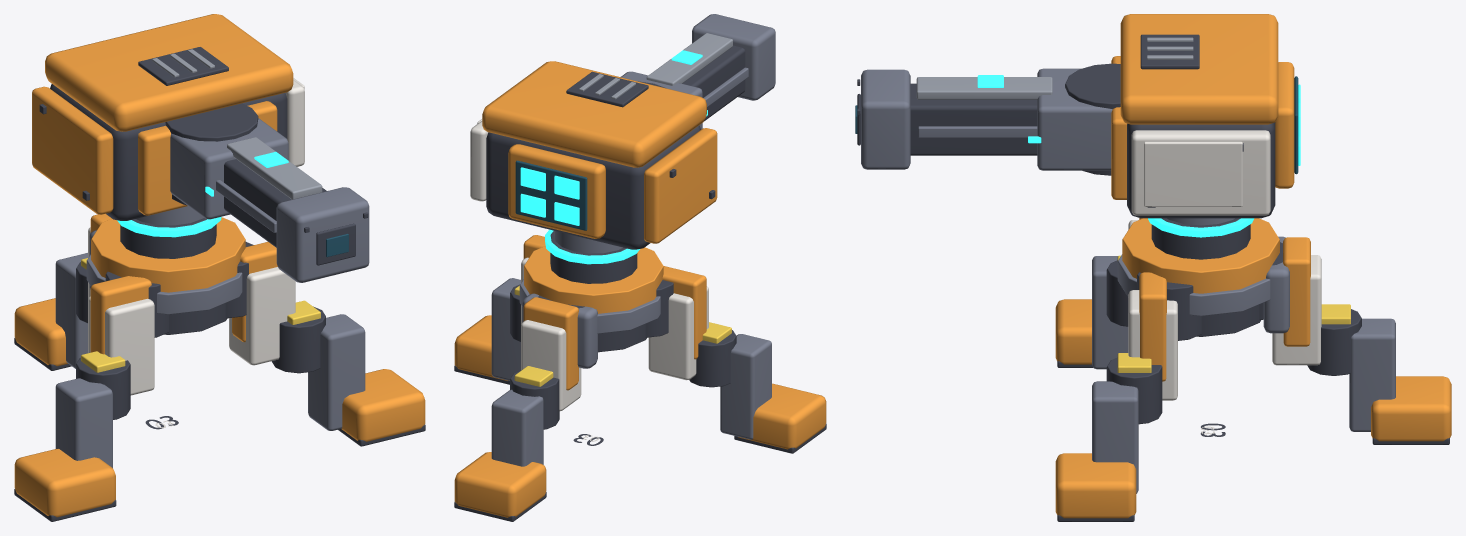
File: Turret_03.fbx
3 renders of one model, left to right at view 1: azimuth 30°, elevation 25°; view 2: azimuth 150°, elevation 25°; view 3: azimuth 270°, elevation 25°, orthographic. The views are drawn at different scales.
Visible parts, largest first — view 1: Head_Top_Orange, Head_Left_Armor, Gun_Muzzle_Housing, Chassis_Orange_Collar, Leg_2_Toe, Leg_3_Lower_Steel, Gun_Mount, Leg_3_Toe, Leg_2_Lower_Steel, Leg_3_Upper_Ivory, Leg_2_Upper_Ivory, Head_Main_Housing (+24 smaller); view 2: Head_Top_Orange, Head_Main_Housing, Head_Left_Armor, Chassis_Orange_Collar, Leg_1_Toe, Leg_2_Lower_Steel, Head_Front_Screen_Bezel, Leg_2_Toe, Leg_1_Lower_Steel, Gun_Muzzle_Housing, Leg_2_Upper_Ivory, Leg_1_Upper_Ivory (+27 smaller); view 3: Head_Top_Orange, Head_Right_White_Plate, Chassis_Orange_Collar, Gun_Main_Barrel, Gun_Mount, Head_Right_Armor, Gun_Muzzle_Housing, Leg_3_Toe, Leg_1_Toe, Leg_1_Lower_Steel, Leg_3_Lower_Steel, Gun_Upper_Rail (+21 smaller).
Part boxes in pixels (x1,y1,x2,y2): Head_Top_Orange: (45,14,293,131); Head_Left_Armor: (32,86,113,214); Gun_Muzzle_Housing: (276,187,369,282); Chassis_Orange_Collar: (91,217,245,292); Leg_2_Toe: (14,449,115,517); Leg_3_Lower_Steel: (308,314,365,430); Gun_Mount: (170,118,288,219); Leg_3_Toe: (341,369,425,441); Leg_2_Lower_Steel: (55,378,112,467); Leg_3_Upper_Ivory: (229,267,295,365); Leg_2_Upper_Ivory: (88,296,154,395); Head_Main_Housing: (50,84,287,220); Head_Top_Orange: (482,61,706,167); Head_Main_Housing: (486,125,700,249); Head_Left_Armor: (644,128,717,243); Chassis_Orange_Collar: (524,246,663,313); Leg_1_Toe: (454,452,546,517); Leg_2_Lower_Steel: (720,334,771,439); Head_Front_Screen_Bezel: (508,144,605,238); Leg_2_Toe: (738,383,826,449); Leg_1_Lower_Steel: (491,389,543,466); Gun_Muzzle_Housing: (692,14,775,100); Leg_2_Upper_Ivory: (648,286,708,380); Leg_1_Upper_Ivory: (521,320,581,411); Head_Top_Orange: (1120,14,1278,124); Head_Right_White_Plate: (1144,141,1242,206); Chassis_Orange_Collar: (1122,218,1279,293); Gun_Main_Barrel: (910,83,1037,155); Gun_Mount: (1037,68,1112,170); Head_Right_Armor: (1131,130,1270,215); Gun_Muzzle_Housing: (861,69,910,169); Leg_3_Toe: (1055,453,1136,518); Leg_1_Toe: (1371,376,1451,441); Leg_1_Lower_Steel: (1349,318,1395,431); Leg_3_Lower_Steel: (1092,381,1138,493); Gun_Upper_Rail: (916,77,1052,99).
Size of the model in its own units: 144 by 137 by 193.
